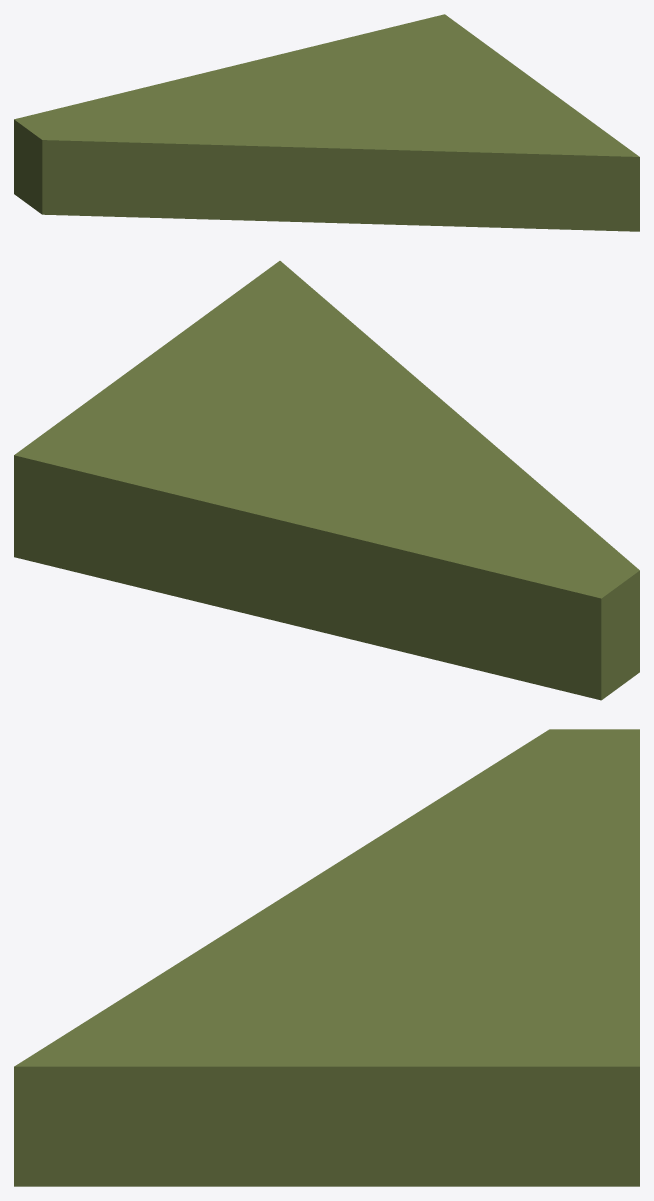
Rendered from ground_color_test_1.gltf.
3 views of the same model, one above another, from view 1: azimuth 30°, elevation 25°; view 2: azimuth 150°, elevation 25°; view 3: azimuth 270°, elevation 25° (orthographic). The views are drawn at different scales.
Visible parts, largest first — view 1: o_ground_4; view 2: o_ground_4; view 3: o_ground_4.
Part boxes in pixels (x1,y1,x2,y2): o_ground_4: [14, 14, 639, 231]; o_ground_4: [14, 261, 639, 700]; o_ground_4: [14, 729, 639, 1186].
Size of the model in its own units: 14.71 by 2.44 by 11.54.
